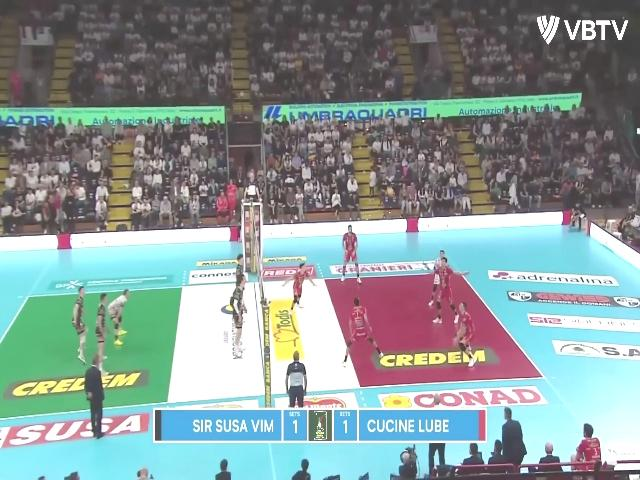volleyball court: (0, 271, 544, 422)
